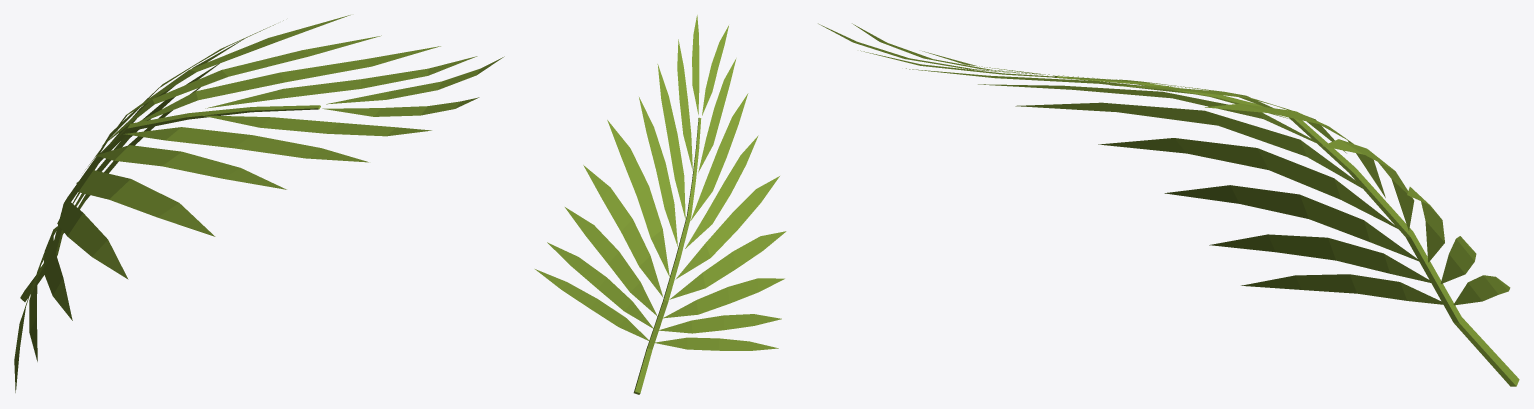
The model's file is Foliage2.fbx.
The picture shows the model from 3 angles, left to right: view 1: azimuth 30°, elevation 25°; view 2: azimuth 150°, elevation 25°; view 3: azimuth 270°, elevation 25°; orthographic projection. The views are drawn at different scales.
Parts seen in each view (by area): view 1: Foliage.002; view 2: Foliage.002; view 3: Foliage.002.
Part boxes in pixels (bbox=[...]): Foliage.002: bbox=[14, 15, 504, 392]; Foliage.002: bbox=[535, 15, 786, 394]; Foliage.002: bbox=[818, 23, 1519, 386].
Bounding box in the file's own units: 105 × 129 × 176.
